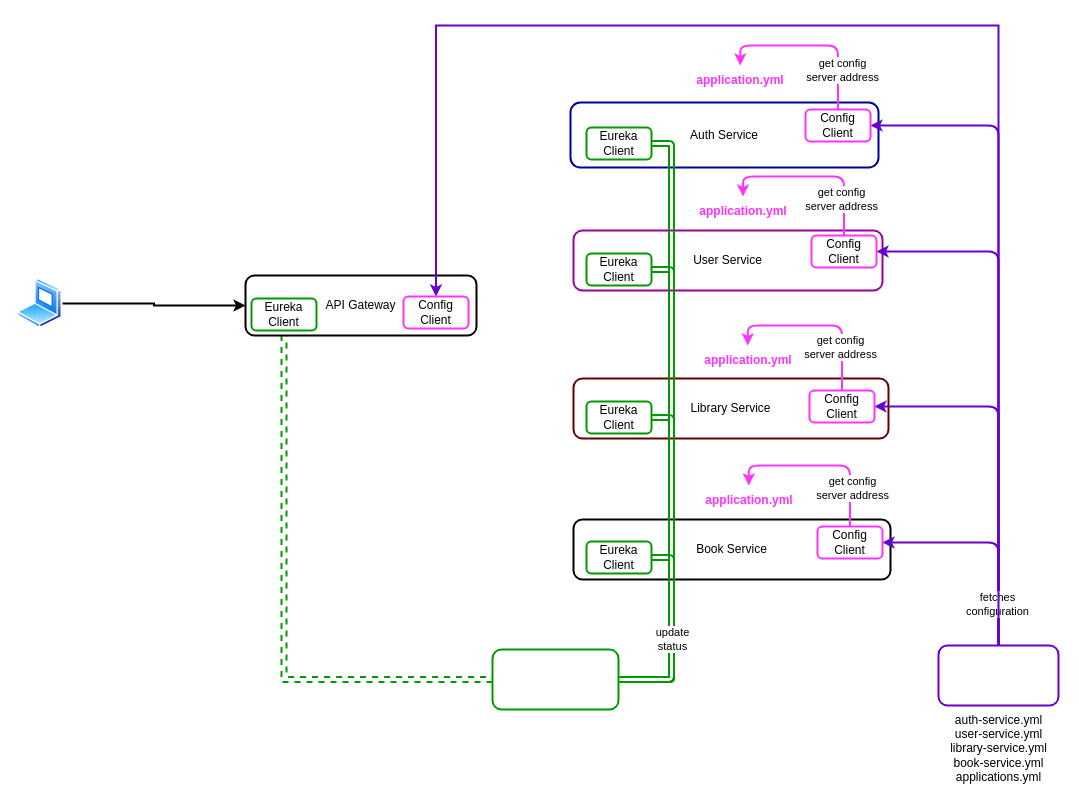
This 1079x801 diagram has some shape labels left out. Each missing label, with the centre of its shape:
Config Server: the point at 998,675
Eureka Server: the point at 555,679
